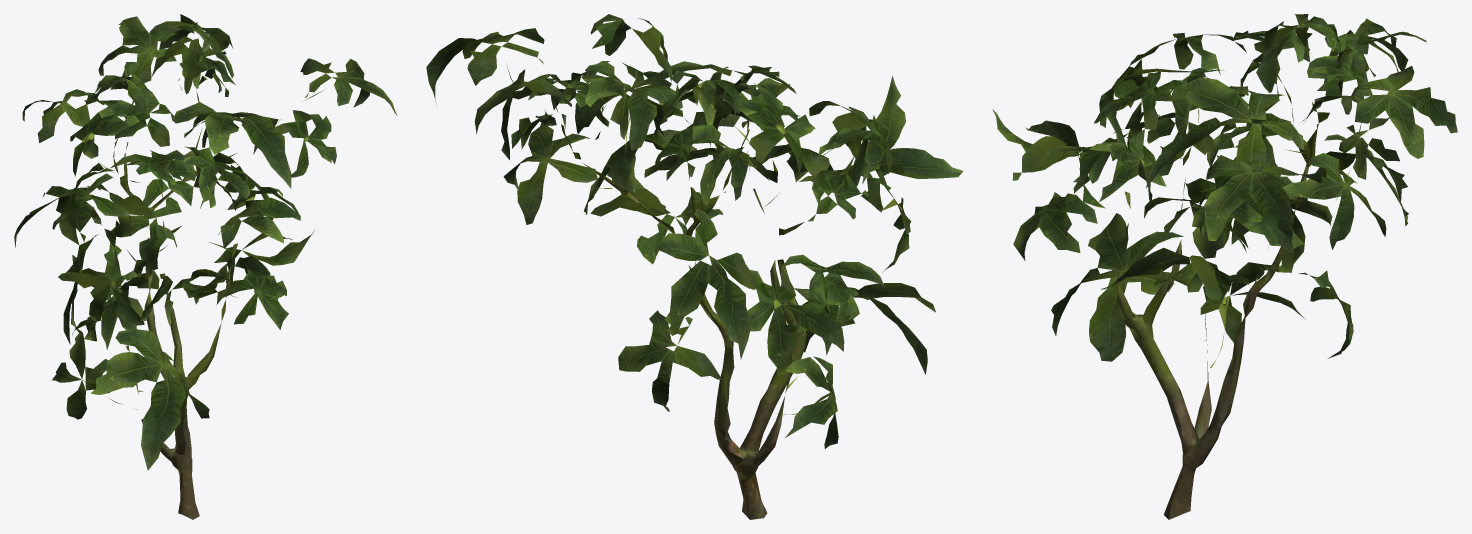
The model's file is monguba_2.glb.
3 views of the same model, side by side, from view 1: azimuth 30°, elevation 25°; view 2: azimuth 150°, elevation 25°; view 3: azimuth 270°, elevation 25° (orthographic). The views are drawn at different scales.
Visible parts, largest first — view 1: monguba; view 2: monguba; view 3: monguba.
Boxes of the visible parts, x1,y1,x2,y2 form: monguba: [14, 14, 397, 519]; monguba: [426, 14, 963, 519]; monguba: [992, 14, 1457, 519].
Size of the model in its own units: 0.9689 by 1.15 by 0.92.
2 materials, 2 textured.
